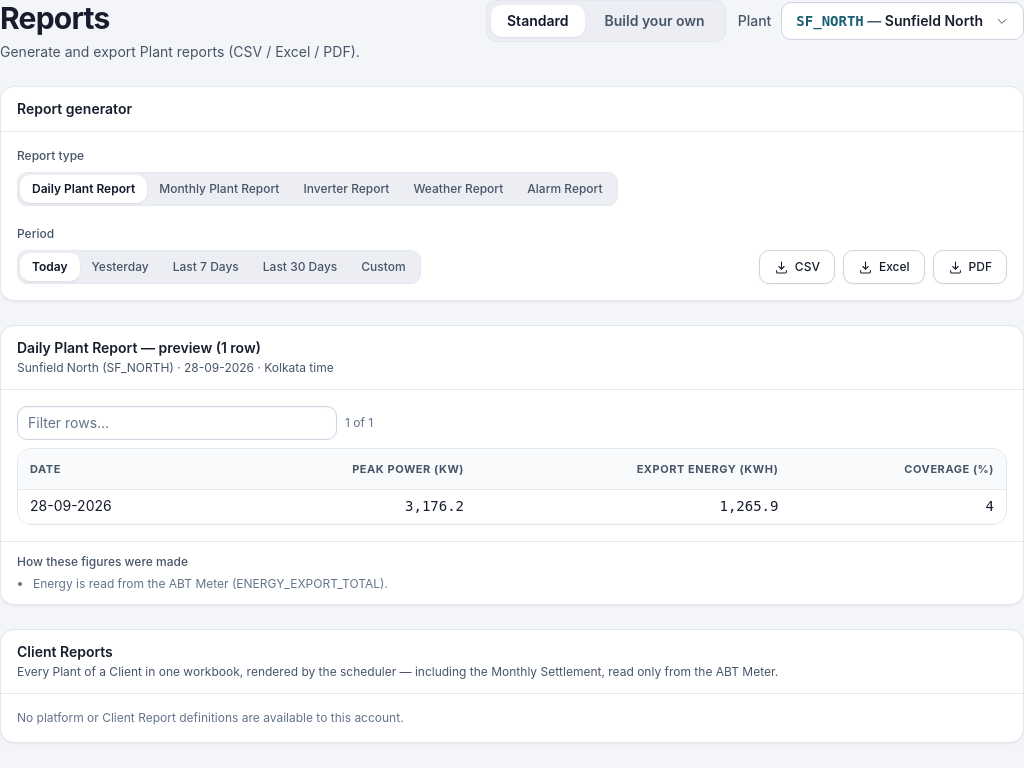
Test: Reports screen › does not ask for a day whose end is before its start, and says why
The width and height of the screenshot is (1024, 768).
Check: the heading "Daily Plant Report — preview (1 row)" is shown, box [17,339,261,356]
Step 1. Click the radio button labelled "Custom" → (384, 267), box [349,253,418,281]
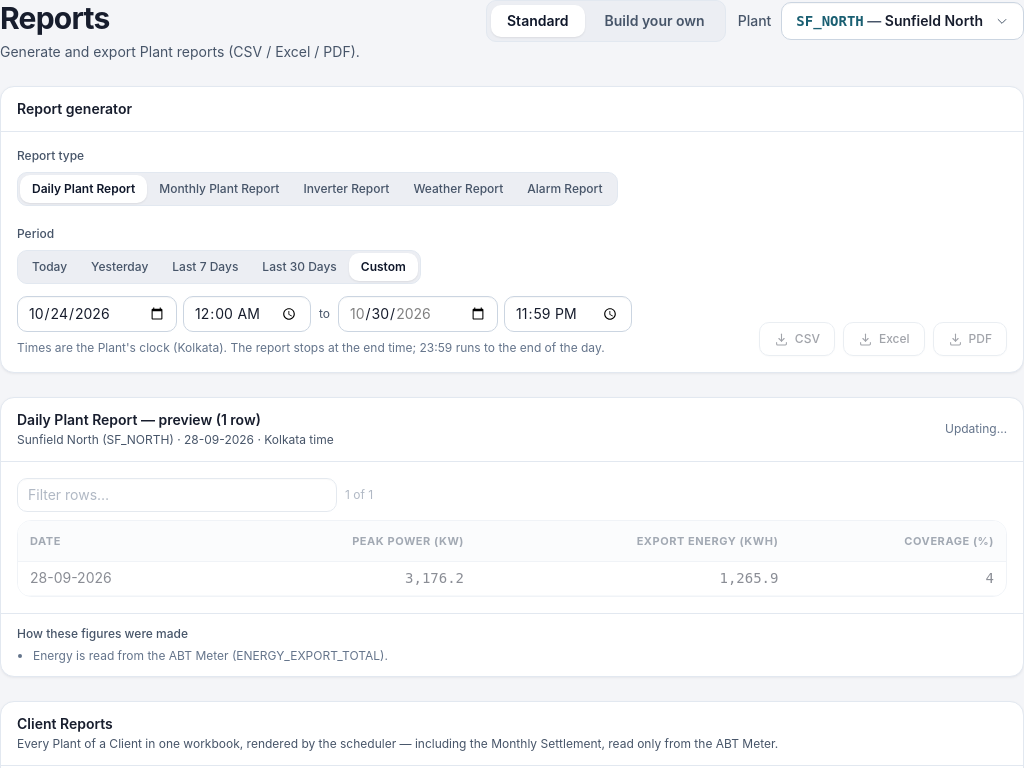
Step 2. Type "2026-09-02" into the date field named "First day" → (97, 314), box [17,296,177,332]
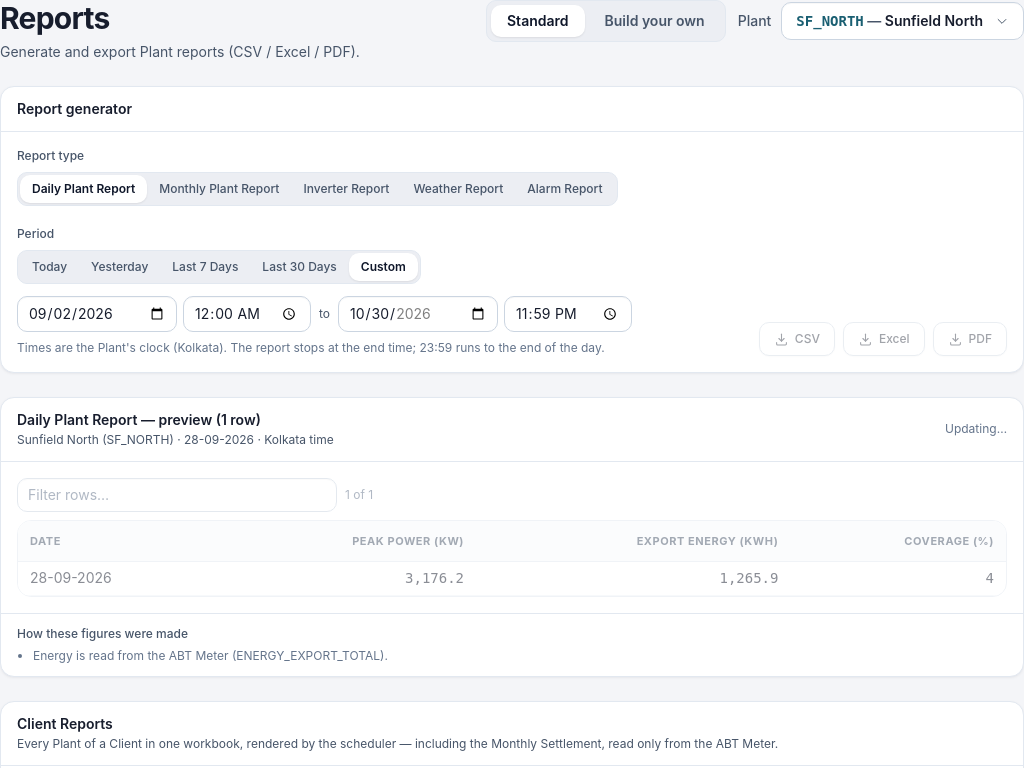
Step 3. Type "2026-09-02" into the date field named "Last day" → (418, 314), box [338,296,498,332]
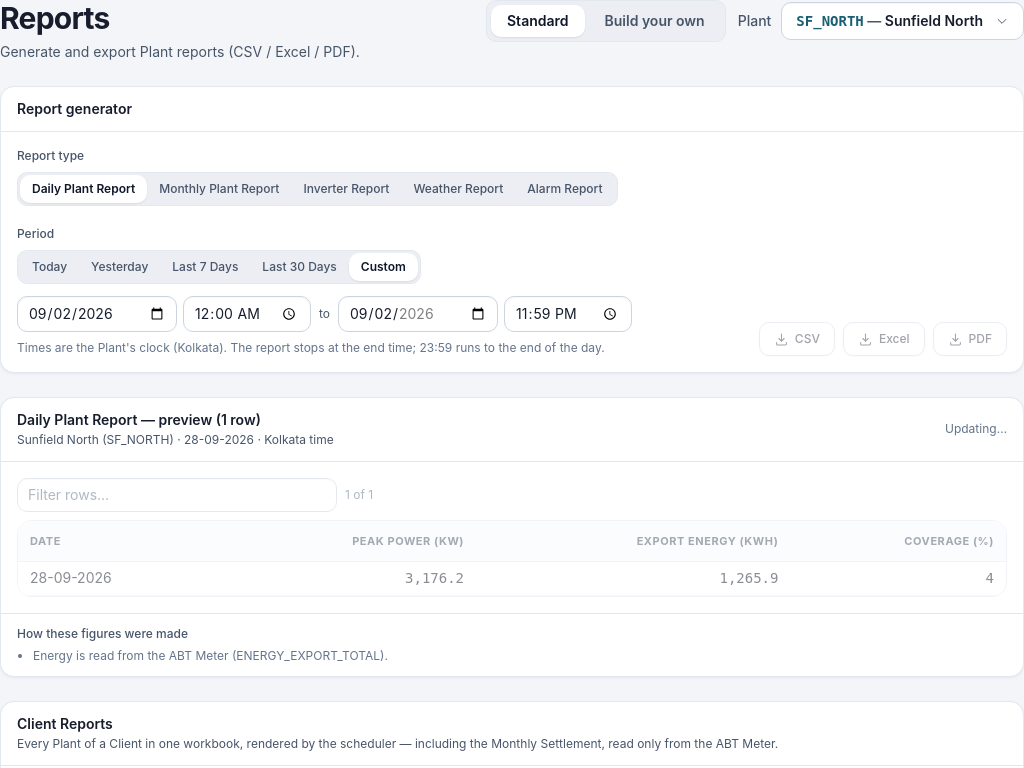
Step 4. Replace the text in the time field named "Start time" with "18:00" → (247, 314), box [183,296,311,332]
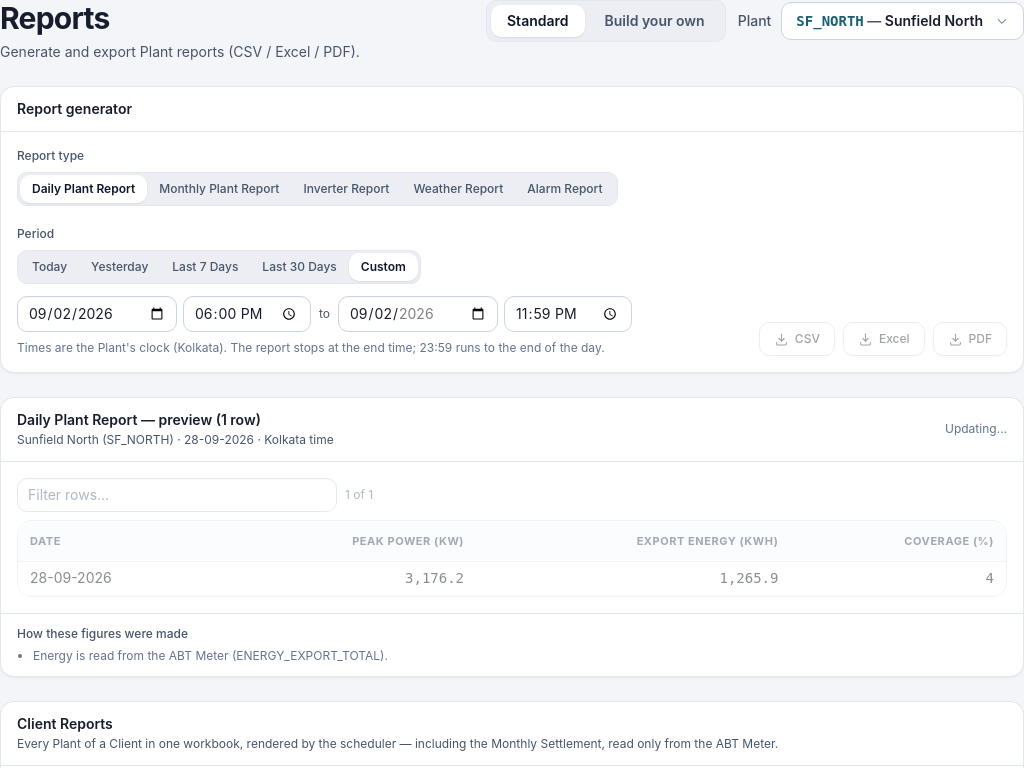
Step 5. Replace the text in the time field named "End time" with "06:00" → (568, 314), box [504,296,632,332]
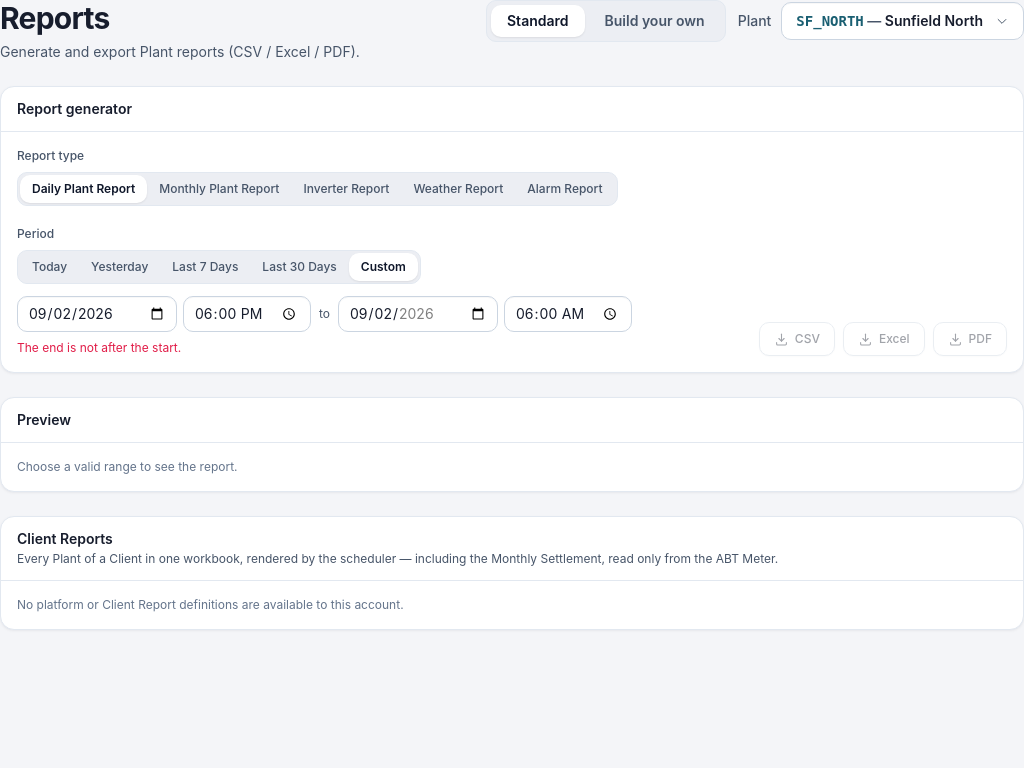
Check: the text "The end is not after the start." is shown, box [17,340,181,355]
